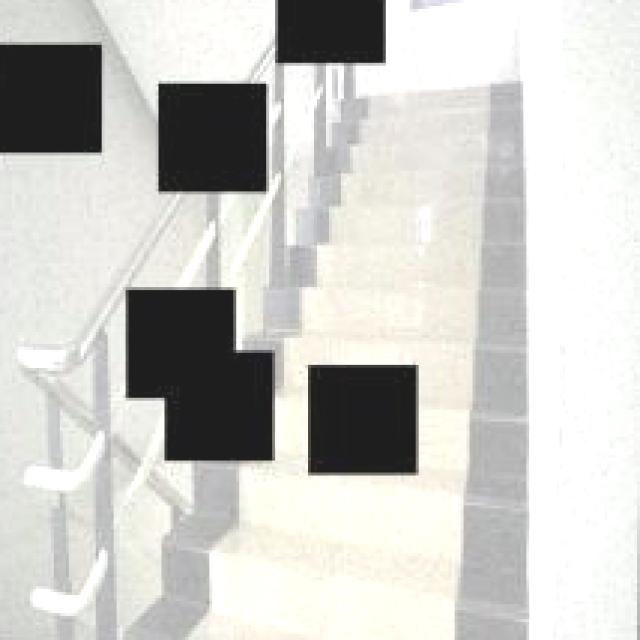upstair: (276, 82, 542, 360)
